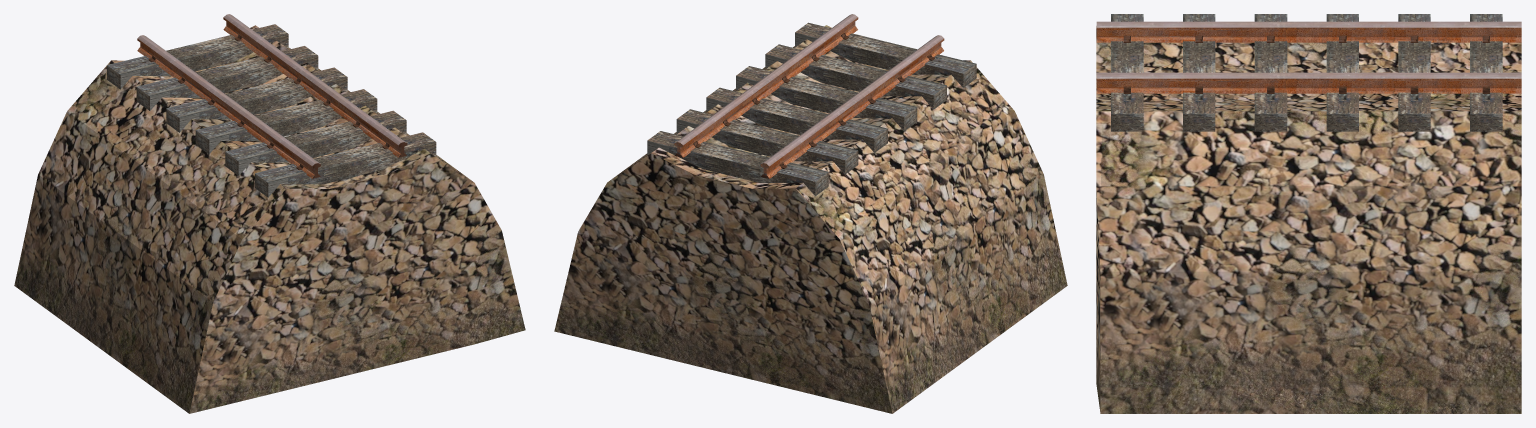
The model's file is rail_normal_bedded.obj.
3 renders of one model, left to right at view 1: azimuth 30°, elevation 25°; view 2: azimuth 150°, elevation 25°; view 3: azimuth 270°, elevation 25°, orthographic. The views are drawn at different scales.
Visible parts, largest first — view 1: railbed; view 2: railbed; view 3: railbed.
Part boxes in pixels (x1,y1,x2,y2): railbed: [14, 14, 525, 413]; railbed: [554, 14, 1067, 413]; railbed: [1096, 14, 1521, 413].
Size of the model in its own units: 3.99 by 2.48 by 3.58.
1 material, 1 textured.
